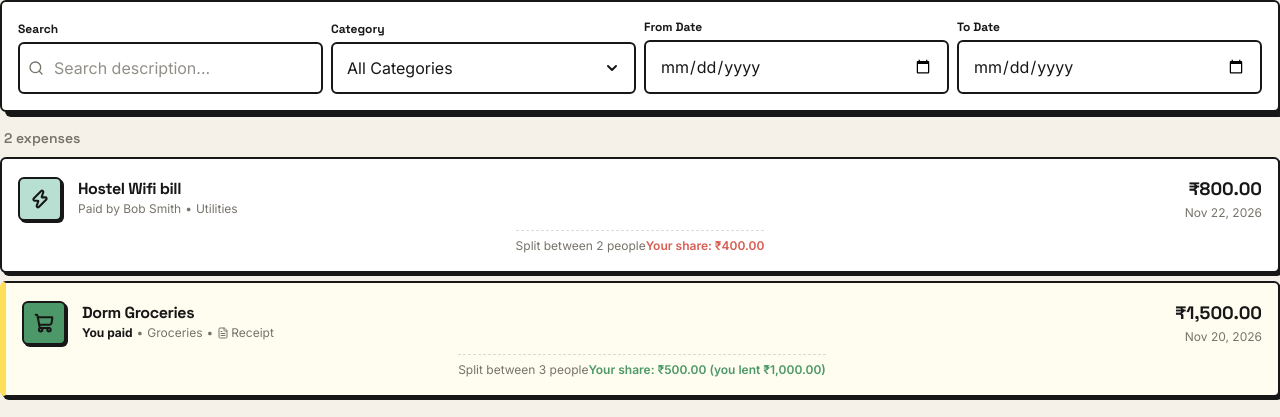
Test: Expense Components › ExpenseList Component › filters expenses by category
Select "Groceries" in the dropdown at (484, 68), box [331, 42, 636, 94]
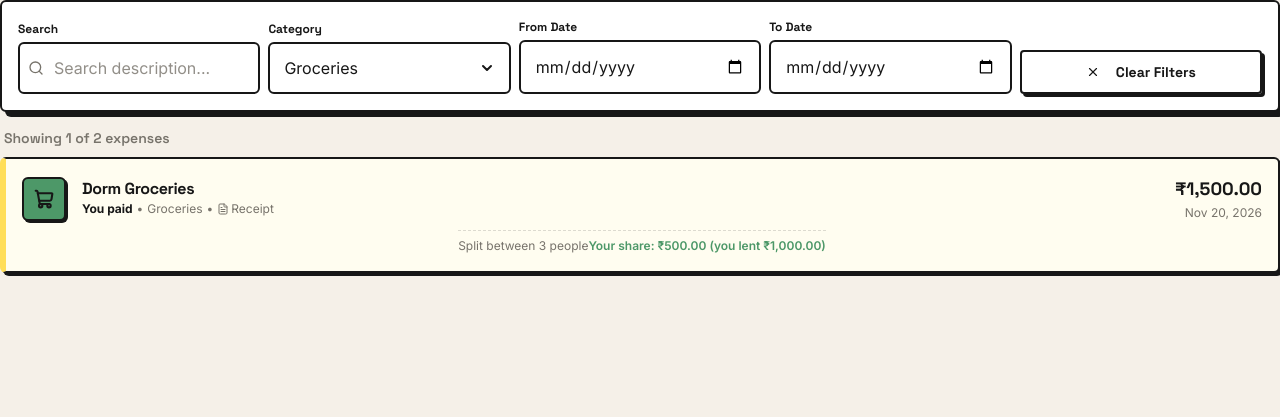
Expected: the heading "Dorm Groceries" is shown, [82, 178, 194, 199]
Expected: the button "Hostel Wifi bill" is gone
